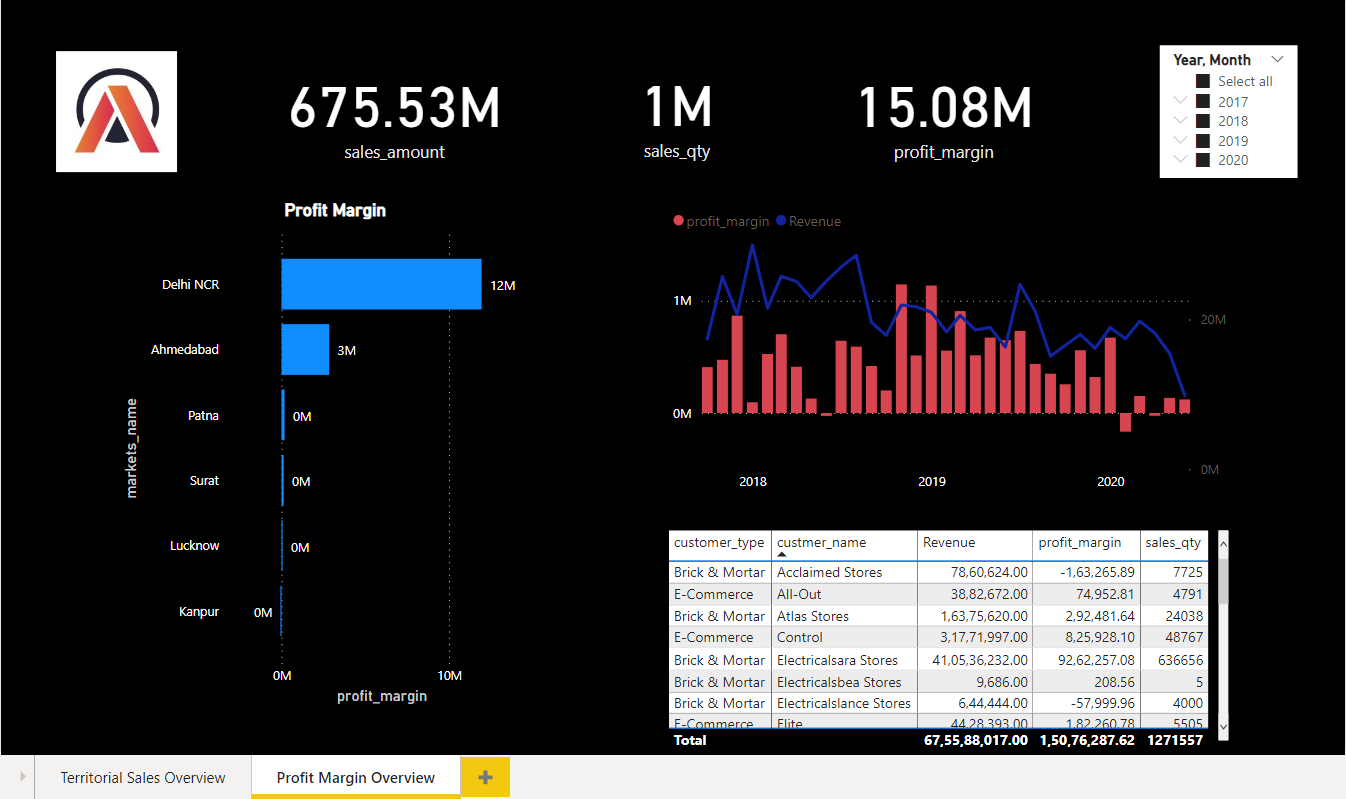

Layout of this report page (visuals, bound fields, positions):
{"tool":"powerbi","page":{"name":"Profit Margin Overview","canvas":[1280,720],"ordinal":1},"visuals":[{"type":"card","fields":{"Values":["Sum(sales transactions.sales_amount)"]},"box":[249.6,0,249.6,213.6],"z":0},{"type":"card","fields":{"Values":["Sum(sales transactions.sales_qty)"]},"box":[525.6,0,235.2,212.4],"z":1000},{"type":"clusteredBarChart","title":"Profit Margin","fields":{"Category":["sales markets.zone","sales markets.markets_name","sales customers.custmer_name","sales products.product_code"],"Y":["Sum(sales transactions.profit_margin)"]},"box":[110.7,190.4,415.3,486.7],"z":2000},{"type":"lineClusteredColumnComboChart","title":"Profit Margin Trendline","fields":{"Category":["sales date.date_yy_mmm"],"Y":["Sum(sales transactions.profit_margin)"],"Y2":["Sum(sales transactions.Revenue)"]},"box":[634.3,190.4,536.7,288],"z":4000},{"type":"tableEx","title":"Top 5 Customers","fields":{"Values":["sales customers.customer_type","sales customers.custmer_name","Sum(sales transactions.Revenue)","Sum(sales transactions.profit_margin)","Sum(sales transactions.sales_qty)"]},"box":[629.6,501,543.9,219],"z":5000},{"type":"slicer","fields":{"Values":["sales date.date_yy_mmm.Variation.Date Hierarchy.Year","sales date.date_yy_mmm.Variation.Date Hierarchy.Quarter"]},"box":[1103.2,44,130.9,126.1],"z":7000},{"type":"card","fields":{"Values":["Sum(sales transactions.profit_margin)"]},"box":[780,0,236.4,213.6],"z":8000},{"type":"image","box":[48,44.4,124.8,126],"z":10000}]}

Visuals, with their boxes on the page's 1280x720 design canvas (x1, y1, x2, y2). These are canvas units, not pixel positions in the 1346x799 screenshot, which may show the page scaled, cropped or inside an application window:
card - Sum(sales transactions.sales_amount): (x1=250, y1=0, x2=499, y2=214)
card - Sum(sales transactions.sales_qty): (x1=526, y1=0, x2=761, y2=212)
"Profit Margin" clusteredBarChart: (x1=111, y1=190, x2=526, y2=677)
"Profit Margin Trendline" lineClusteredColumnComboChart: (x1=634, y1=190, x2=1171, y2=478)
"Top 5 Customers" tableEx: (x1=630, y1=501, x2=1174, y2=720)
slicer - sales date.date_yy_mmm.Variation.Date Hierarchy.Year x sales date.date_yy_mmm.Variation.Date Hierarchy.Quarter: (x1=1103, y1=44, x2=1234, y2=170)
card - Sum(sales transactions.profit_margin): (x1=780, y1=0, x2=1016, y2=214)
image: (x1=48, y1=44, x2=173, y2=170)
